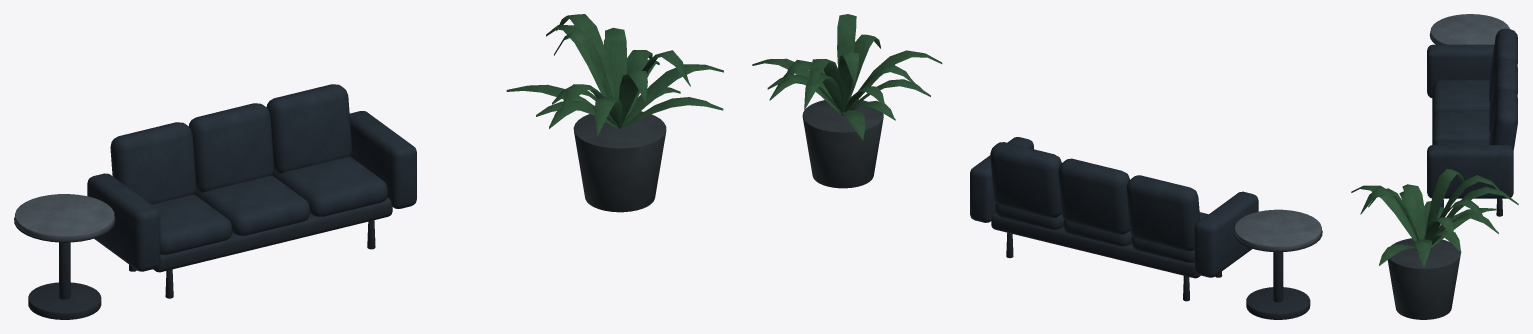
File: tokyo-furniture.glb
The picture shows the model from 3 angles, left to right: view 1: azimuth 30°, elevation 25°; view 2: azimuth 150°, elevation 25°; view 3: azimuth 270°, elevation 25°; orthographic projection. The views are drawn at different scales.
Parts seen in each view (by area): view 1: Individual tailored seat cushion, Sculpted agave leaf, Floating bench frame, Thrown ceramic planter, Honed stone side table; view 2: Individual tailored seat cushion, Sculpted agave leaf, Floating bench frame, Thrown ceramic planter, Honed stone side table; view 3: Individual tailored seat cushion, Sculpted agave leaf, Thrown ceramic planter, Honed stone side table, Floating bench frame.
Part boxes in pixels (x1,y1,x2,y2): Individual tailored seat cushion: [87, 84, 416, 271]; Sculpted agave leaf: [506, 14, 723, 136]; Floating bench frame: [14, 197, 392, 319]; Thrown ceramic planter: [573, 111, 666, 212]; Honed stone side table: [15, 194, 114, 240]; Individual tailored seat cushion: [970, 137, 1258, 277]; Sculpted agave leaf: [752, 14, 942, 140]; Floating bench frame: [991, 212, 1322, 319]; Thrown ceramic planter: [802, 99, 883, 188]; Honed stone side table: [1234, 209, 1321, 250]; Individual tailored seat cushion: [1427, 28, 1517, 198]; Sculpted agave leaf: [1351, 169, 1518, 268]; Thrown ceramic planter: [1387, 238, 1460, 319]; Honed stone side table: [1430, 14, 1509, 44]; Floating bench frame: [1429, 33, 1502, 216].
Bounding box in the file's own units: 4.68 × 1.06 × 1.26.
6 materials, 6 textured.
